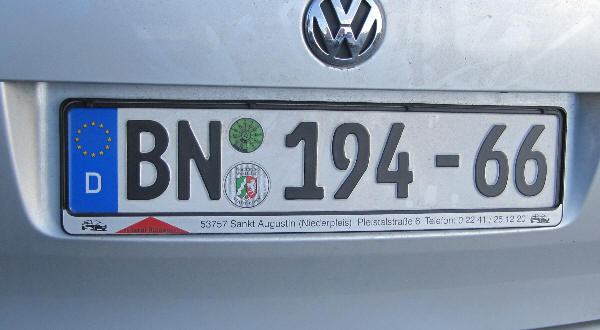license_plate: (61, 98, 568, 214)
